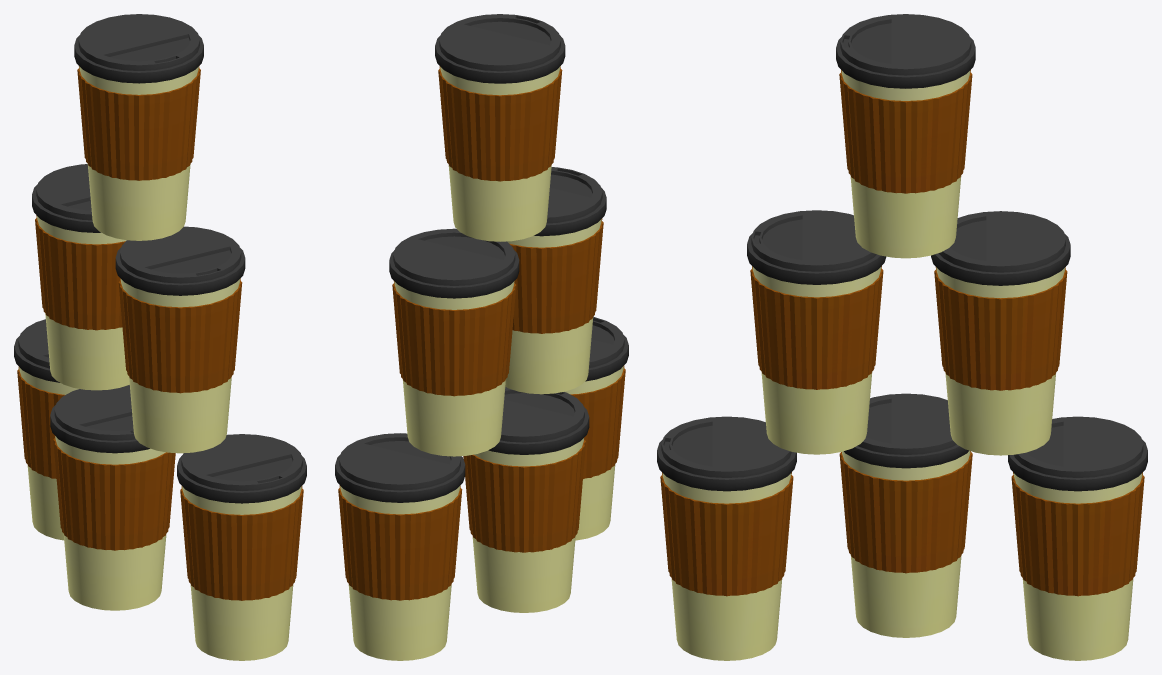
The model's file is CoffeCups.glb.
3 renders of one model, left to right at view 1: azimuth 30°, elevation 25°; view 2: azimuth 150°, elevation 25°; view 3: azimuth 270°, elevation 25°, orthographic. The views are drawn at different scales.
Parts seen in each view (by area): view 1: Coffe_cup_1, Coffe_cup_6, Coffe_cup_3, Coffe_cup_5, Coffe_cup_2, Coffe_cup_4; view 2: Coffe_cup_1, Coffe_cup_2, Coffe_cup_4, Coffe_cup_5, Coffe_cup_3, Coffe_cup_6; view 3: Coffe_cup_1, Coffe_cup_6, Coffe_cup_2, Coffe_cup_3, Coffe_cup_4, Coffe_cup_5.
Boxes of the visible parts, <box> form: Coffe_cup_1: <box>74,14,203,240</box>; Coffe_cup_6: <box>177,434,306,660</box>; Coffe_cup_3: <box>115,226,245,453</box>; Coffe_cup_5: <box>50,385,175,610</box>; Coffe_cup_2: <box>32,164,129,390</box>; Coffe_cup_4: <box>14,319,78,540</box>; Coffe_cup_1: <box>435,14,565,241</box>; Coffe_cup_2: <box>389,228,519,456</box>; Coffe_cup_4: <box>335,433,465,660</box>; Coffe_cup_5: <box>463,387,589,612</box>; Coffe_cup_3: <box>505,167,606,394</box>; Coffe_cup_6: <box>564,316,628,540</box>; Coffe_cup_1: <box>836,14,975,258</box>; Coffe_cup_6: <box>657,416,796,660</box>; Coffe_cup_2: <box>931,211,1070,455</box>; Coffe_cup_3: <box>747,210,886,454</box>; Coffe_cup_4: <box>1008,416,1147,660</box>; Coffe_cup_5: <box>839,393,972,637</box>.
Size of the model in its own units: 1.78 by 5.93 by 4.49.
Materials: 1 (1 with a texture image).
